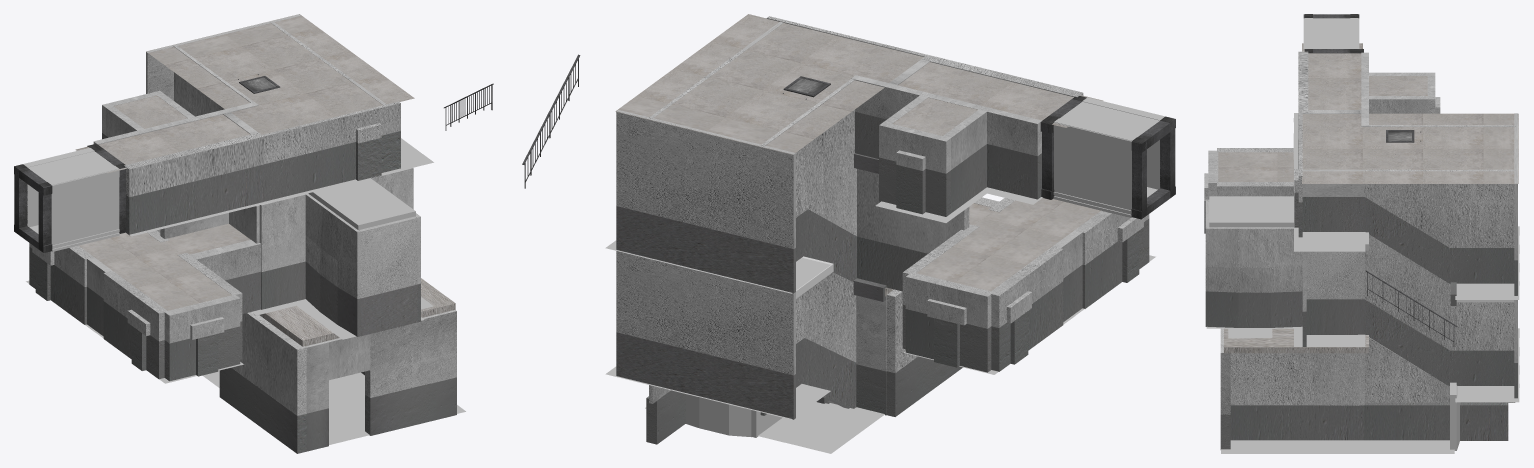
Rendered from TheStairWay.fbx.
3 renders of one model, left to right at view 1: azimuth 30°, elevation 25°; view 2: azimuth 150°, elevation 25°; view 3: azimuth 270°, elevation 25°, orthographic. The views are drawn at different scales.
Visible parts, largest first — view 1: Cube.096, Cube.001, Cube.085, Cube.094, Cube.087, Cube.088, Cube.049, Cube.036, Cube.038, Cube.092, Cube.083, Cube.185 (+52 smaller); view 2: Cube.189, Cube.029, Cube.020, Cube.010, Cube.191, Cube.048, Cube.078, Cube.032, Cube.073, Plane.018, Cube.074, Cube.066 (+50 smaller); view 3: Cube.202, Cube.019, Cube.097, Cube.034, Cube.201, Cube.003, Cube.100, Cube.093, Cube.079, Cube.033, Cube.187, Cube.105 (+39 smaller).
Part boxes in pixels (x1,y1,x2,y2): Cube.096: (365,310,456,397); Cube.001: (126,164,263,235); Cube.085: (264,131,400,201); Cube.094: (231,312,306,415); Cube.087: (124,132,263,197); Cube.088: (262,101,400,164); Cube.049: (48,165,119,248); Cube.036: (305,193,360,298); Cube.038: (360,216,417,298); Cube.092: (365,377,456,435); Cube.083: (219,368,306,453); Cube.185: (259,193,307,272); Cube.189: (616,110,795,248); Cube.029: (616,249,795,375); Cube.020: (616,332,795,419); Cube.010: (616,206,795,293); Cube.191: (760,79,856,236); Cube.048: (1054,118,1136,214); Cube.078: (857,169,969,253); Cube.032: (796,272,856,362); Cube.073: (905,309,991,372); Plane.018: (645,402,883,453); Cube.074: (905,273,991,328); Cube.066: (991,281,1063,371); Cube.202: (1364,234,1514,350); Cube.019: (1364,169,1515,247); Cube.097: (1220,339,1364,405); Cube.034: (1205,227,1302,292); Cube.201: (1364,299,1514,385); Cube.003: (1364,197,1514,284); Cube.100: (1364,402,1508,440); Cube.093: (1230,405,1363,440); Cube.079: (1365,337,1515,402); Cube.033: (1205,291,1302,327); Cube.187: (1306,251,1364,299); Cube.105: (1209,196,1293,227).
Bounding box in the file's own units: 4401 × 2545 × 2649.
